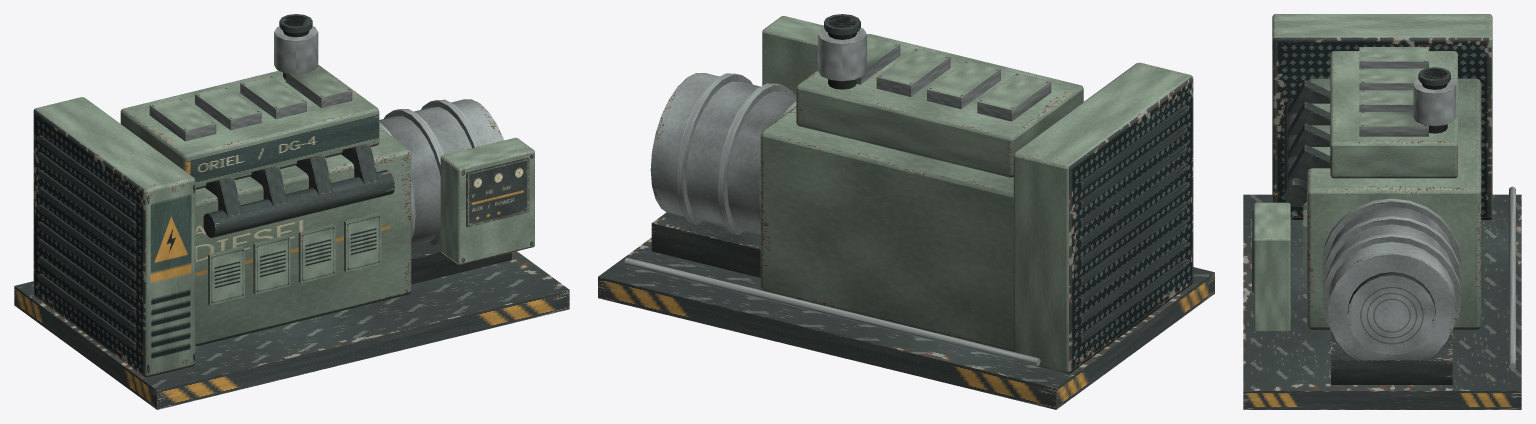
The model's file is generator.glb.
The picture shows the model from 3 angles, left to right: view 1: azimuth 30°, elevation 25°; view 2: azimuth 150°, elevation 25°; view 3: azimuth 270°, elevation 25°; orthographic projection. The views are drawn at different scales.
Visible parts, largest first — view 1: Generator; view 2: Generator; view 3: Generator.
Part boxes in pixels (<box>): Generator: <box>14,14,569,409</box>; Generator: <box>598,14,1214,409</box>; Generator: <box>1243,14,1521,409</box>.
Size of the model in its own units: 4 by 2.4 by 2.4.
Materials: 1 (1 with a texture image).
